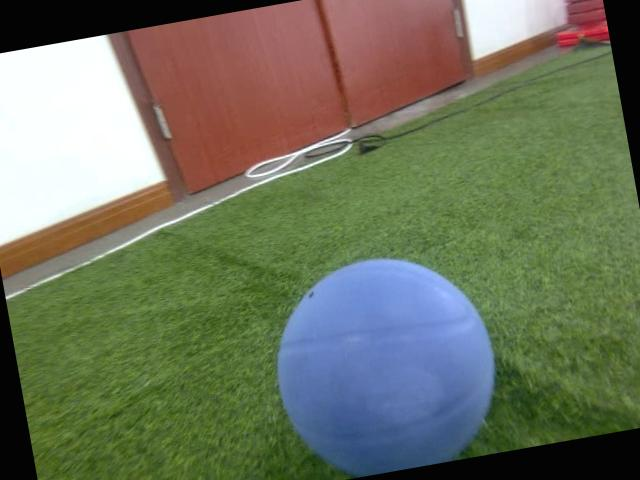blue_ball: (260, 239, 509, 480)
